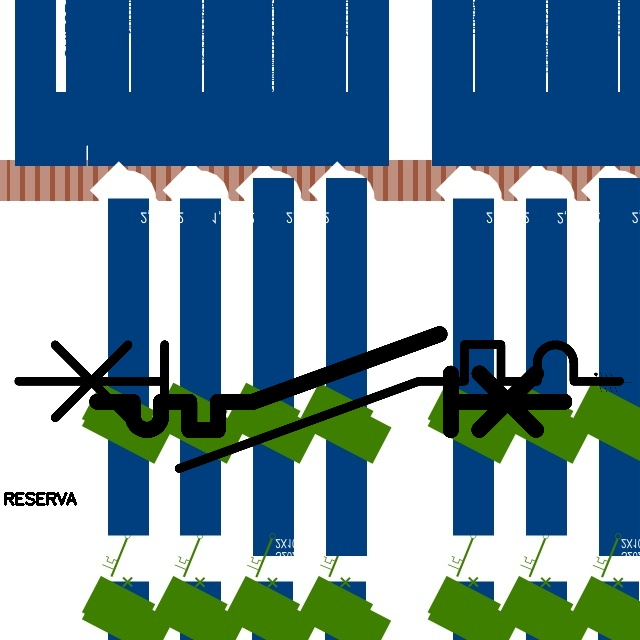interruptor_termomagnetico: (3, 329, 635, 483), (85, 322, 577, 442)
